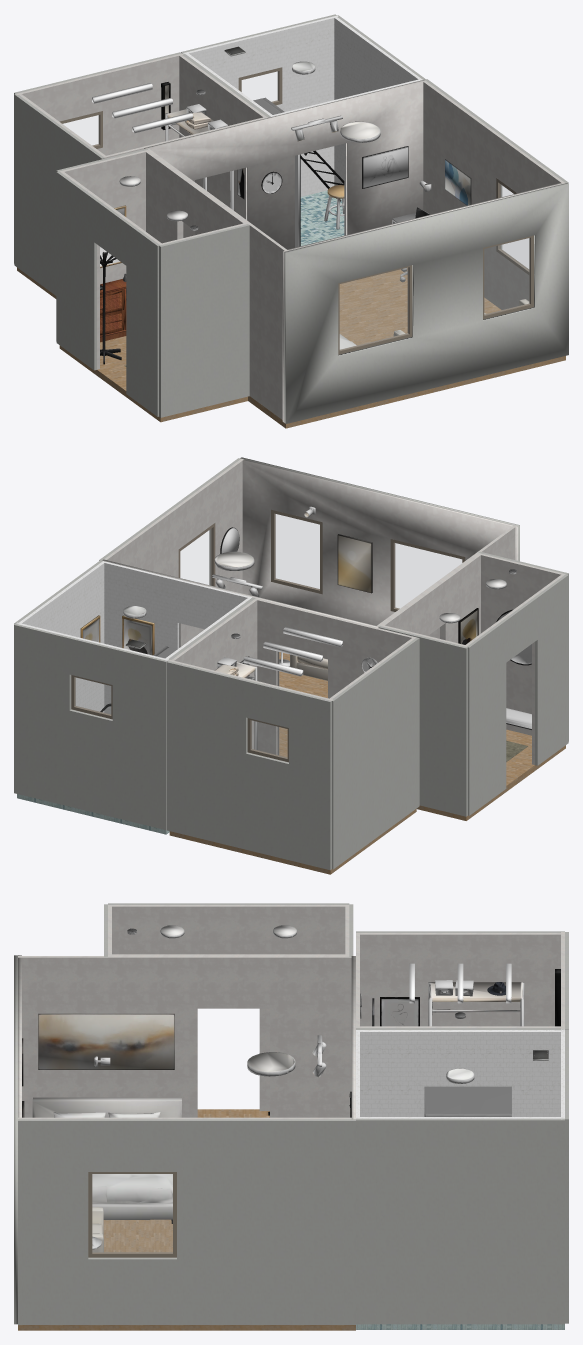
The model's file is scene_named.glb.
The picture shows the model from 3 angles, top to bottom: view 1: azimuth 30°, elevation 25°; view 2: azimuth 150°, elevation 25°; view 3: azimuth 270°, elevation 25°; orthographic projection. The views are drawn at different scales.
Visible parts, largest first — view 1: south_wall_exterior_bedroom/south_wall_exterior_bedroom/geom, north_wall_bedroom/north_wall_bedroom/geometry_0, south_wall_exterior_hallway/south_wall_exterior_hallway/geom, west_wall_exterior_hallway/west_wall_exterior_hallway/geomet, east_wall_bedroom/east_wall_bedroom/geometry_0, west_wall_exterior_closet/west_wall_exterior_closet/geometry, north_wall_bathroom/north_wall_bathroom/geometry_0, north_wall_closet/north_wall_closet/geometry_0, west_wall_bedroom/west_wall_bedroom/geometry_0, floor_bedroom, window_1_bedroom/window_1_bedroom/glass, east_wall_hallway/east_wall_hallway/geometry_0 (+24 smaller); view 2: north_wall_exterior_closet/north_wall_exterior_closet/geomet, north_wall_exterior_bathroom/north_wall_exterior_bathroom/ge, south_wall_bedroom/south_wall_bedroom/geometry_0, west_wall_exterior_closet/west_wall_exterior_closet/geometry, west_wall_exterior_hallway/west_wall_exterior_hallway/geomet, north_wall_exterior_hallway/north_wall_exterior_hallway/geom, south_wall_closet/south_wall_closet/geometry_0, east_wall_bedroom/east_wall_bedroom/geometry_0, south_wall_bathroom/south_wall_bathroom/geometry_0, south_wall_hallway/south_wall_hallway/geometry_0, east_wall_bathroom/east_wall_bathroom/geometry_0, east_wall_hallway/east_wall_hallway/geometry_0 (+23 smaller); view 3: east_wall_exterior_bedroom/east_wall_exterior_bedroom/geomet, east_wall_exterior_bathroom/east_wall_exterior_bathroom/geom, west_wall_bedroom/west_wall_bedroom/geometry_0, west_wall_closet/west_wall_closet/geometry_0, west_wall_bathroom/west_wall_bathroom/geometry_0, west_wall_hallway/west_wall_hallway/geometry_0, canvas_print_0.001, bed_0, window_2_bedroom/window_2_bedroom/glass, floor_bedroom, shower_cabin_0/E_body_9.017, wardrobe_0 (+10 smaller).
Part boxes in pixels (bbox=[...]): south_wall_exterior_bedroom/south_wall_exterior_bedroom/geom: bbox=[284, 183, 568, 423]; north_wall_bedroom/north_wall_bedroom/geometry_0: bbox=[145, 79, 425, 249]; south_wall_exterior_hallway/south_wall_exterior_hallway/geom: bbox=[159, 224, 249, 417]; west_wall_exterior_hallway/west_wall_exterior_hallway/geomet: bbox=[56, 171, 159, 416]; east_wall_bedroom/east_wall_bedroom/geometry_0: bbox=[423, 81, 565, 309]; west_wall_exterior_closet/west_wall_exterior_closet/geometry: bbox=[14, 94, 104, 295]; north_wall_bathroom/north_wall_bathroom/geometry_0: bbox=[183, 15, 338, 196]; north_wall_closet/north_wall_closet/geometry_0: bbox=[16, 53, 182, 155]; west_wall_bedroom/west_wall_bedroom/geometry_0: bbox=[144, 148, 288, 419]; floor_bedroom: bbox=[248, 267, 565, 428]; window_1_bedroom/window_1_bedroom/glass: bbox=[340, 268, 408, 349]; east_wall_hallway/east_wall_hallway/geometry_0: bbox=[144, 150, 247, 243]; north_wall_exterior_closet/north_wall_exterior_closet/geomet: bbox=[166, 661, 331, 870]; north_wall_exterior_bathroom/north_wall_exterior_bathroom/ge: bbox=[14, 623, 167, 829]; south_wall_bedroom/south_wall_bedroom/geometry_0: bbox=[242, 459, 518, 638]; west_wall_exterior_closet/west_wall_exterior_closet/geometry: bbox=[332, 637, 419, 869]; west_wall_exterior_hallway/west_wall_exterior_hallway/geomet: bbox=[467, 574, 568, 815]; north_wall_exterior_hallway/north_wall_exterior_hallway/geom: bbox=[378, 626, 467, 816]; south_wall_closet/south_wall_closet/geometry_0: bbox=[254, 598, 416, 754]; east_wall_bedroom/east_wall_bedroom/geometry_0: bbox=[104, 459, 243, 646]; south_wall_bathroom/south_wall_bathroom/geometry_0: bbox=[102, 561, 251, 714]; south_wall_hallway/south_wall_hallway/geometry_0: bbox=[477, 553, 562, 735]; east_wall_bathroom/east_wall_bathroom/geometry_0: bbox=[17, 562, 104, 712]; east_wall_hallway/east_wall_hallway/geometry_0: bbox=[381, 553, 481, 643]; east_wall_exterior_bedroom/east_wall_exterior_bedroom/geomet: bbox=[18, 1119, 355, 1324]; east_wall_exterior_bathroom/east_wall_exterior_bathroom/geom: bbox=[356, 1118, 564, 1324]; west_wall_bedroom/west_wall_bedroom/geometry_0: bbox=[18, 956, 351, 1117]; west_wall_closet/west_wall_closet/geometry_0: bbox=[360, 933, 560, 1026]; west_wall_bathroom/west_wall_bathroom/geometry_0: bbox=[356, 1030, 564, 1116]; west_wall_hallway/west_wall_hallway/geometry_0: bbox=[108, 905, 349, 1110]; canvas_print_0.001: bbox=[38, 1013, 174, 1069]; bed_0: bbox=[32, 1097, 181, 1223]; window_2_bedroom/window_2_bedroom/glass: bbox=[92, 1174, 172, 1252]; floor_bedroom: bbox=[18, 1219, 355, 1330]; shower_cabin_0/E_body_9.017: bbox=[424, 1086, 511, 1116]; wardrobe_0: bbox=[428, 982, 524, 1026].
Bounding box in the file's own units: 6.4 × 2.9 × 6.9.
94 materials, 78 textured.
